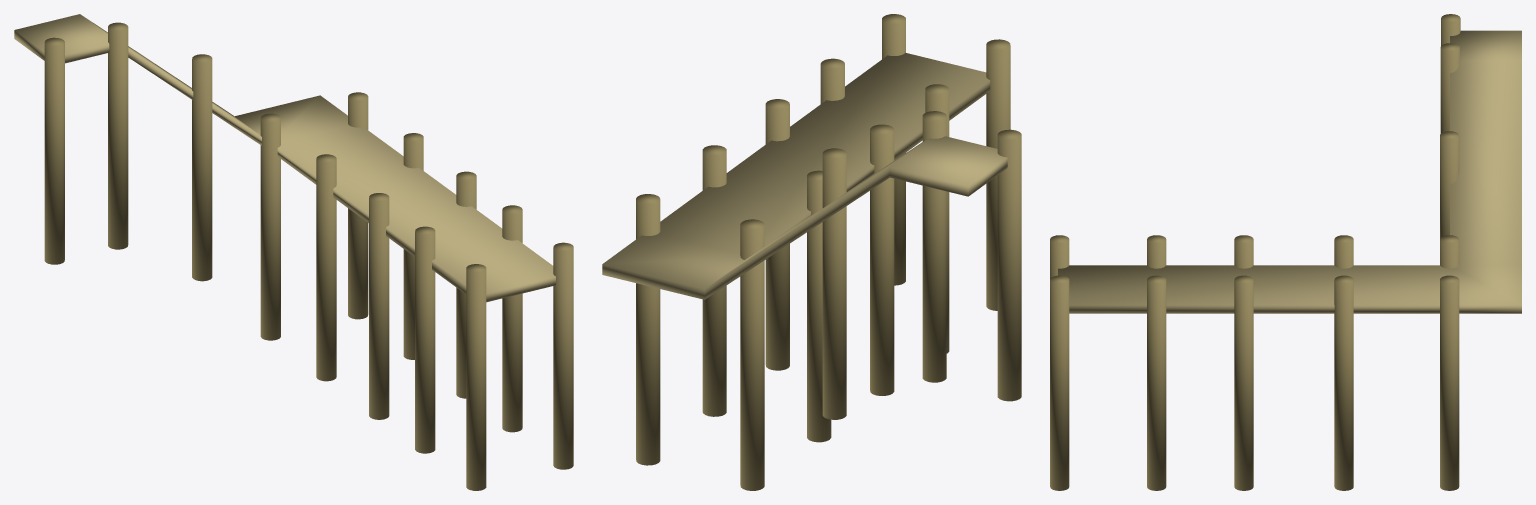
File: pier.glb
The picture shows the model from 3 angles, left to right: view 1: azimuth 30°, elevation 25°; view 2: azimuth 150°, elevation 25°; view 3: azimuth 270°, elevation 25°; orthographic projection. The views are drawn at different scales.
Parts seen in each view (by area): view 1: pier-col; view 2: pier-col; view 3: pier-col.
Part boxes in pixels (x1,y1,x2,y2): pier-col: (14,14,573,490); pier-col: (602,14,1021,490); pier-col: (1050,14,1521,490).
Bounding box in the file's own units: 9.58 × 9.9 × 12.88.
